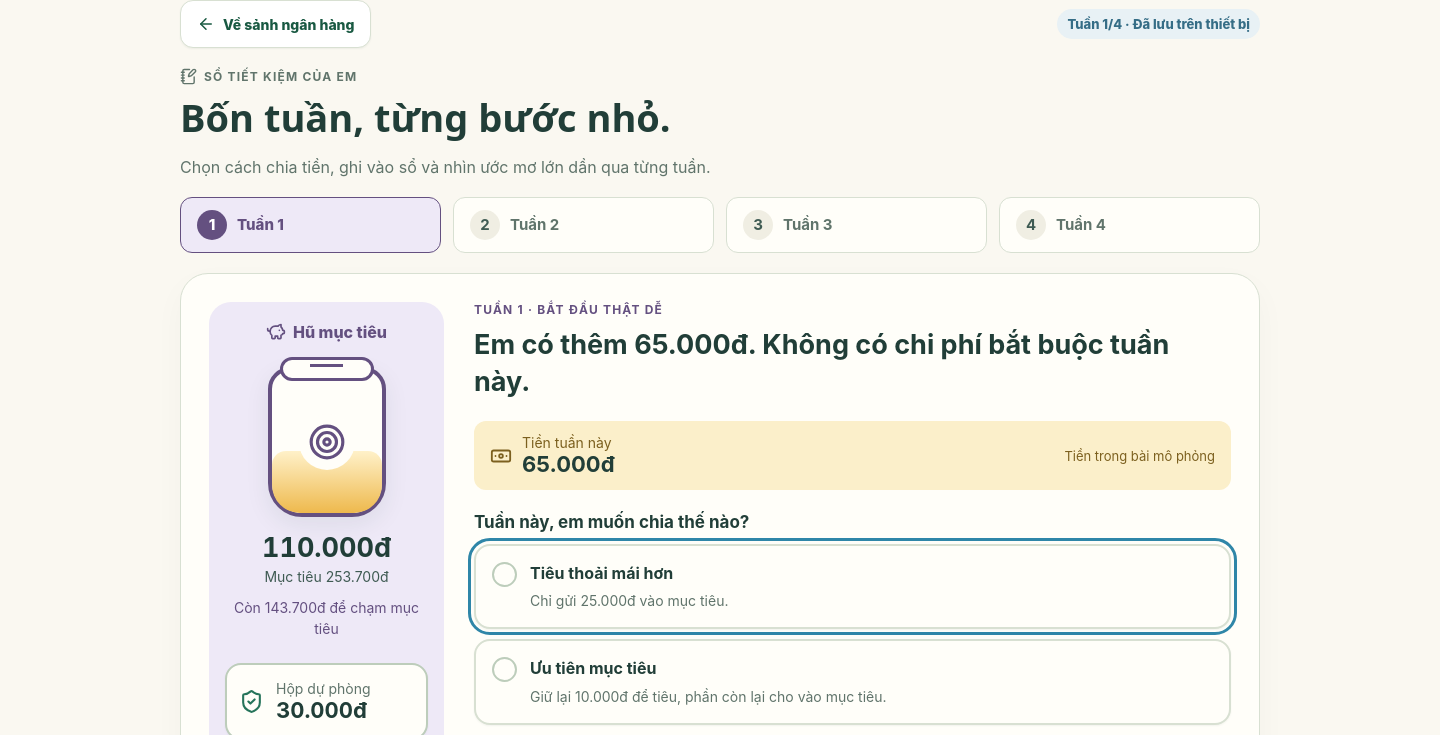
Scenario: Tiny Bank planning desk › discards an unconfirmed selection when leaving and resuming
Click the button "Tiêu thoải mái hơn Chỉ gửi 25.000đ vào mục tiêu." at x=602, y=573, box [474, 544, 1231, 629]
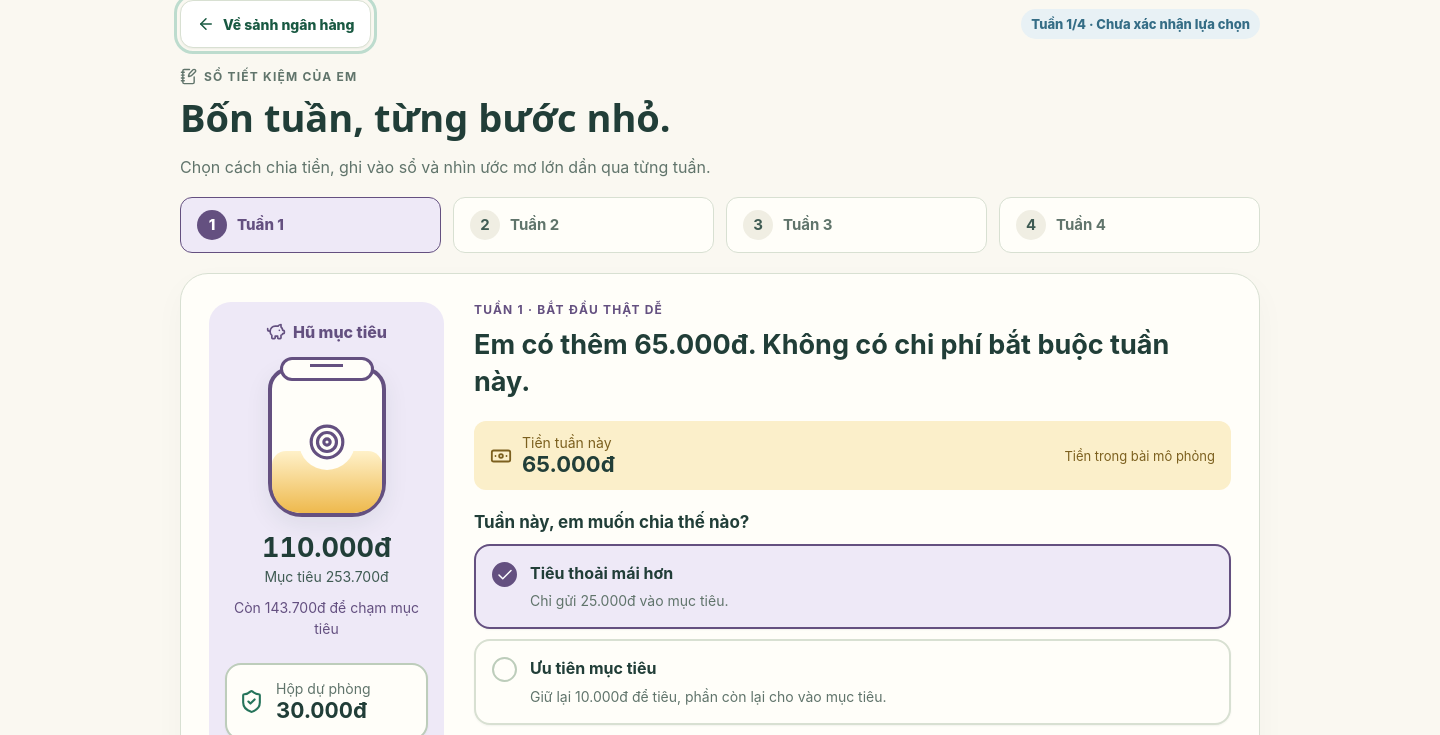
Click the button "Về sảnh ngân hàng" at x=276, y=24, box [180, 0, 372, 48]
(page scrolled)
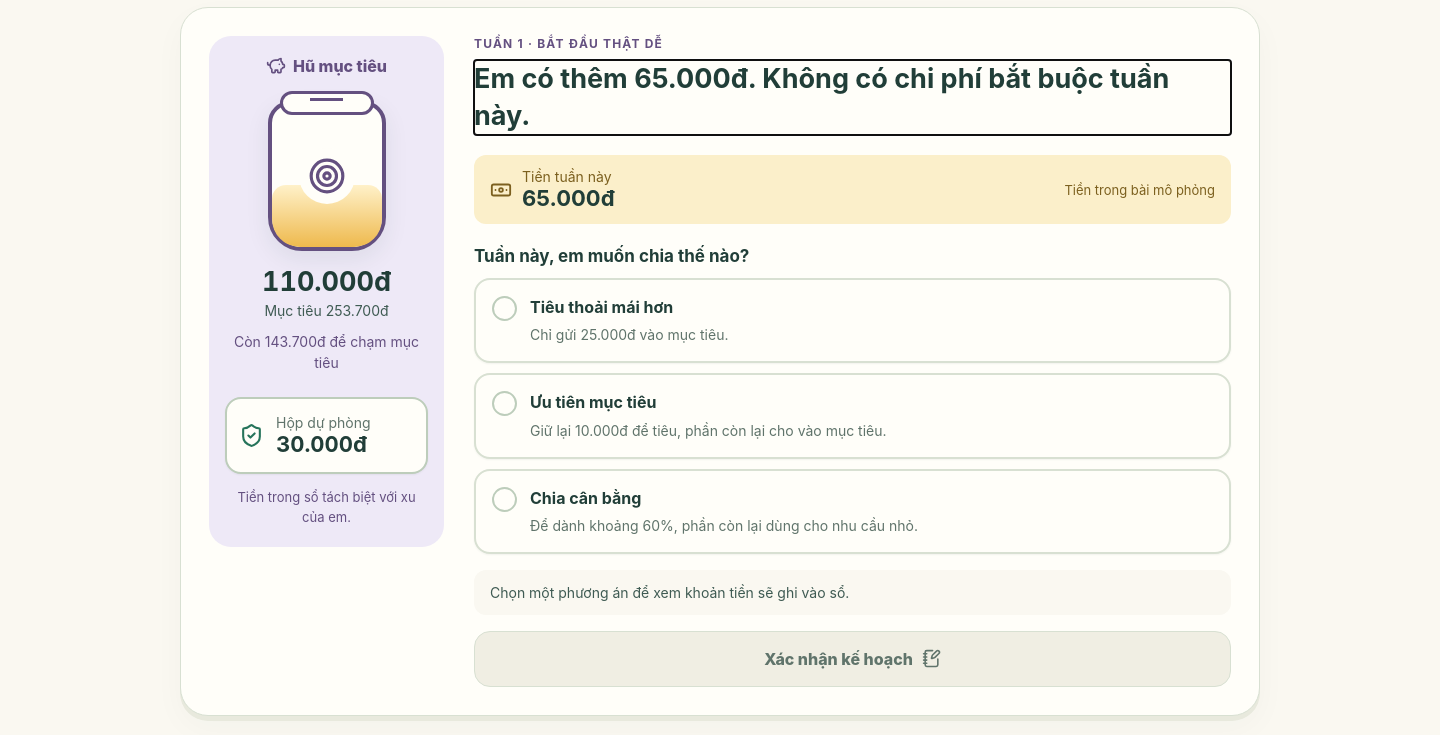
Now the button "Xác nhận kế hoạch" is disabled, box [474, 631, 1231, 687]
